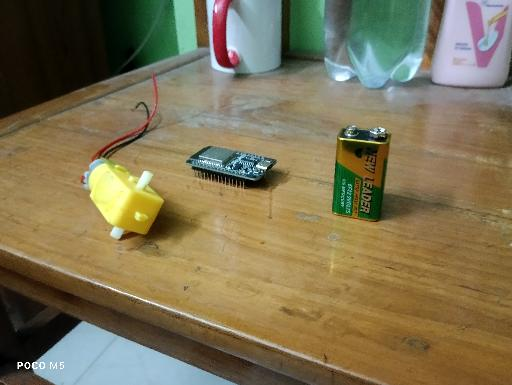Battery: (332, 124, 392, 223)
Esp32: (184, 144, 277, 190)
Motor: (79, 157, 164, 241)
